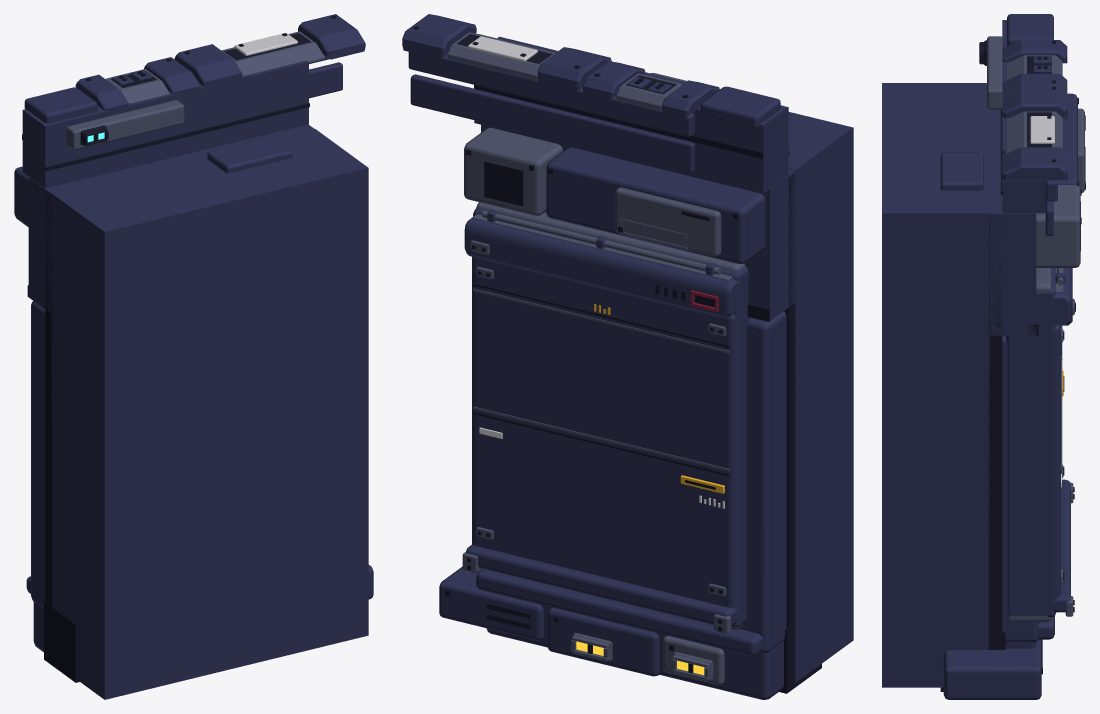
Rendered from hull.bay.livery_plate.light.mixed.plate.w2.000.s1.k-2.15.glb.
3 views of the same model, side by side, from view 1: azimuth 30°, elevation 25°; view 2: azimuth 150°, elevation 25°; view 3: azimuth 270°, elevation 25° (orthographic). The views are drawn at different scales.
Visible parts, largest first — view 1: hull.bay.livery_plate.light.mixed.plate.w2.000.s1.k-2.15; view 2: hull.bay.livery_plate.light.mixed.plate.w2.000.s1.k-2.15; view 3: hull.bay.livery_plate.light.mixed.plate.w2.000.s1.k-2.15.
Part boxes in pixels (x1=…): hull.bay.livery_plate.light.mixed.plate.w2.000.s1.k-2.15: x1=14, y1=14, x2=373, y2=699; hull.bay.livery_plate.light.mixed.plate.w2.000.s1.k-2.15: x1=402, y1=14, x2=853, y2=699; hull.bay.livery_plate.light.mixed.plate.w2.000.s1.k-2.15: x1=882, y1=14, x2=1085, y2=699.
Size of the model in its own units: 2.44 by 3.98 by 1.32.
